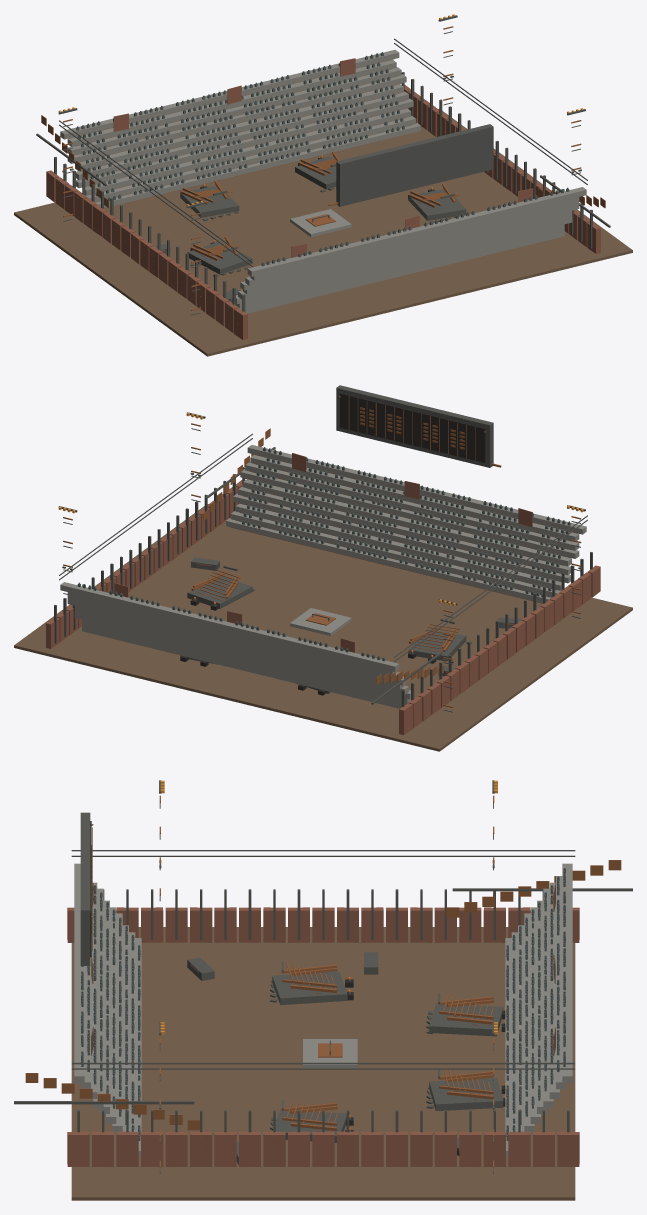
Rendered from stadium.glb.
3 views of the same model, one above another, from view 1: azimuth 30°, elevation 25°; view 2: azimuth 150°, elevation 25°; view 3: azimuth 270°, elevation 25° (orthographic). The views are drawn at different scales.
Parts seen in each view (by area): view 1: bowl-concrete-terraces, bowl-dirt-floor, bowl-rustwall-panels, bowl-scoreboard-frame, crowd-coats, bowl-rustwall-buttresses, crowd-heads, bowl-rusted-riser-joints, bowl-handrails, bowl-ramp-0-plate, bowl-ramp-2-plate, bowl-ramp-1-plate (+3 smaller); view 2: bowl-dirt-floor, bowl-concrete-terraces, bowl-rustwall-panels, crowd-coats, bowl-scoreboard-dark-face, bowl-rustwall-buttresses, bowl-scoreboard-frame, crowd-heads, bowl-rusted-riser-joints, bowl-handrails, bowl-ramp-1-plate, bowl-ramp-0-plate (+5 smaller); view 3: bowl-dirt-floor, bowl-rustwall-panels, bowl-concrete-terraces, crowd-coats, crowd-heads, bowl-handrails, bowl-rustwall-buttresses, bowl-repair-plates, bowl-ramp-0-plate, bowl-ramp-3-plate, bowl-ramp-2-plate, bowl-scoreboard-frame (+4 smaller).
Boxes of the visible parts, <box> form: bowl-concrete-terraces: <box>60,49,586,313</box>; bowl-dirt-floor: <box>14,109,632,356</box>; bowl-rustwall-panels: <box>46,58,600,339</box>; bowl-scoreboard-frame: <box>336,124,493,206</box>; crowd-coats: <box>76,53,569,266</box>; bowl-rustwall-buttresses: <box>54,72,592,311</box>; crowd-heads: <box>77,52,568,263</box>; bowl-rusted-riser-joints: <box>69,59,415,208</box>; bowl-handrails: <box>59,38,587,266</box>; bowl-ramp-0-plate: <box>187,241,252,276</box>; bowl-ramp-2-plate: <box>180,186,239,221</box>; bowl-ramp-1-plate: <box>408,189,466,223</box>; bowl-dirt-floor: <box>14,504,632,751</box>; bowl-concrete-terraces: <box>60,445,586,708</box>; bowl-rustwall-panels: <box>46,453,600,735</box>; crowd-coats: <box>77,448,570,661</box>; bowl-scoreboard-dark-face: <box>340,393,485,462</box>; bowl-rustwall-buttresses: <box>54,467,592,706</box>; bowl-scoreboard-frame: <box>336,385,493,467</box>; crowd-heads: <box>78,447,569,658</box>; bowl-rusted-riser-joints: <box>231,454,577,603</box>; bowl-handrails: <box>59,433,587,661</box>; bowl-ramp-1-plate: <box>187,576,254,608</box>; bowl-ramp-0-plate: <box>408,629,472,661</box>; bowl-dirt-floor: <box>71,927,575,1200</box>; bowl-rustwall-panels: <box>67,883,579,1166</box>; bowl-concrete-terraces: <box>74,863,572,1157</box>; crowd-coats: <box>81,869,565,1140</box>; crowd-heads: <box>81,868,565,1137</box>; bowl-handrails: <box>71,850,575,1069</box>; bowl-rustwall-buttresses: <box>77,889,569,1132</box>; bowl-repair-plates: <box>25,860,621,1130</box>; bowl-ramp-0-plate: <box>270,971,347,1005</box>; bowl-ramp-3-plate: <box>426,1078,503,1110</box>; bowl-ramp-2-plate: <box>426,1003,503,1036</box>; bowl-scoreboard-frame: <box>80,812,90,965</box>.
Bounding box in the file's own units: 94 × 33.1 × 91.
